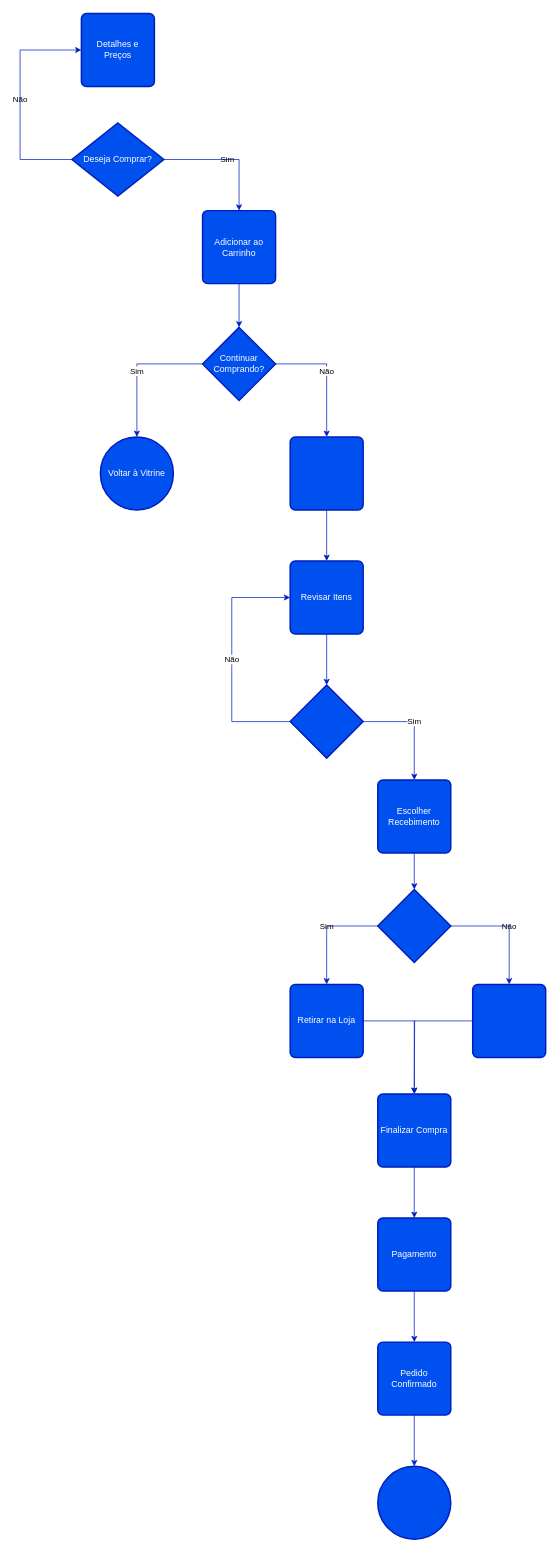
This 558x1552 diagram has some shape labels left out. The shapes that lost their labels are listed below. From the top down, each one's centre as x and y in pixels, then its label:
At (x=326, y=473): "Ir para o Carrinho".
At (x=326, y=721): "Confirmar Pedido?".
At (x=414, y=925): "Retirar na loja?".
At (x=509, y=1020): "Enviar Entregador".
At (x=414, y=1502): "FIm".
